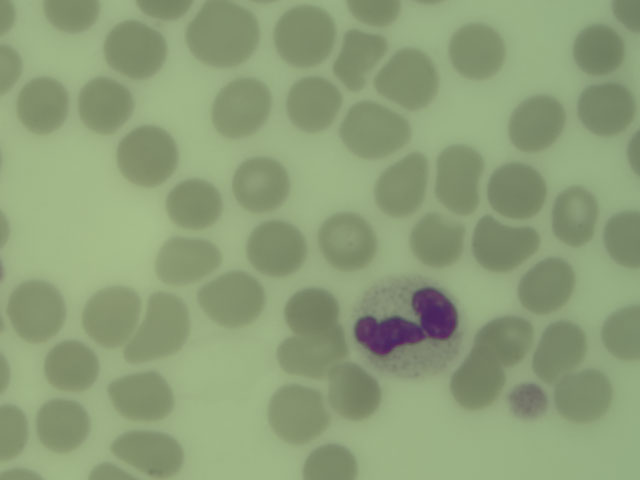RBC: (430, 147, 489, 215), (265, 379, 326, 441), (343, 99, 409, 156), (189, 5, 252, 64), (108, 425, 184, 473), (372, 50, 436, 107), (275, 7, 335, 64), (506, 92, 564, 150), (463, 219, 532, 265), (279, 320, 340, 370), (120, 127, 173, 182), (38, 395, 91, 450), (114, 364, 167, 419), (326, 362, 379, 417), (282, 282, 335, 337), (317, 213, 370, 268), (373, 161, 426, 216), (448, 22, 501, 77), (286, 73, 339, 128), (206, 269, 259, 324), (43, 334, 96, 389), (138, 293, 191, 348), (84, 287, 137, 342), (249, 216, 302, 271), (160, 228, 213, 283), (164, 170, 217, 225), (233, 152, 286, 207), (211, 78, 264, 133), (112, 17, 165, 72), (12, 281, 65, 336), (77, 75, 130, 130), (557, 368, 610, 423), (453, 353, 506, 408), (537, 321, 590, 376), (473, 312, 526, 367), (520, 257, 573, 312), (409, 215, 462, 270), (549, 187, 602, 242), (487, 159, 540, 214), (577, 82, 630, 137), (570, 21, 623, 76), (17, 83, 69, 130), (604, 207, 640, 273), (600, 301, 639, 359), (308, 439, 357, 479), (46, 1, 99, 34), (1, 401, 28, 456), (344, 1, 407, 21)
WBC: (352, 284, 462, 375)
